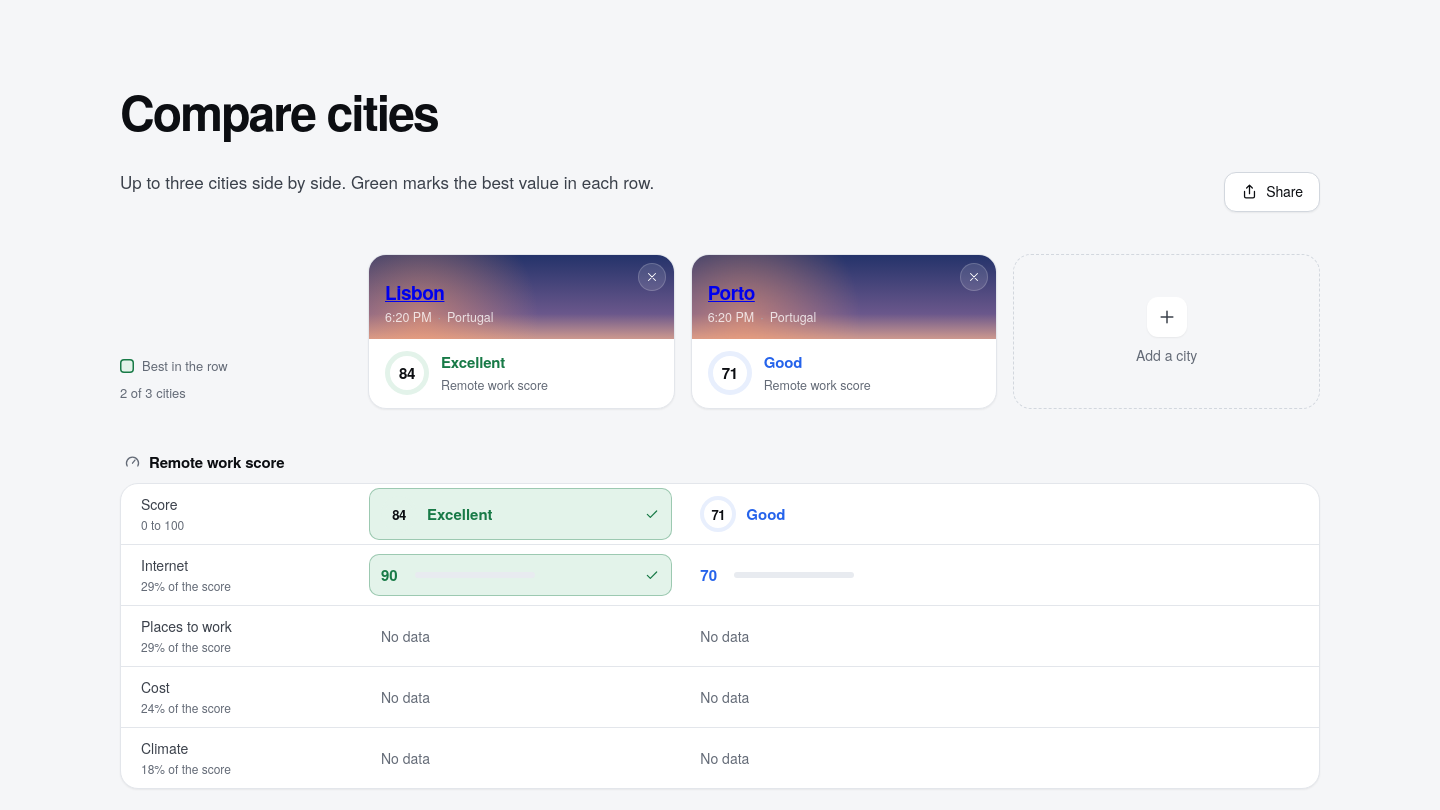
Test: ComparePage › removes a city from the comparison
Click the button named "Remove Porto".
click(974, 277)  # box [960,263,988,291]
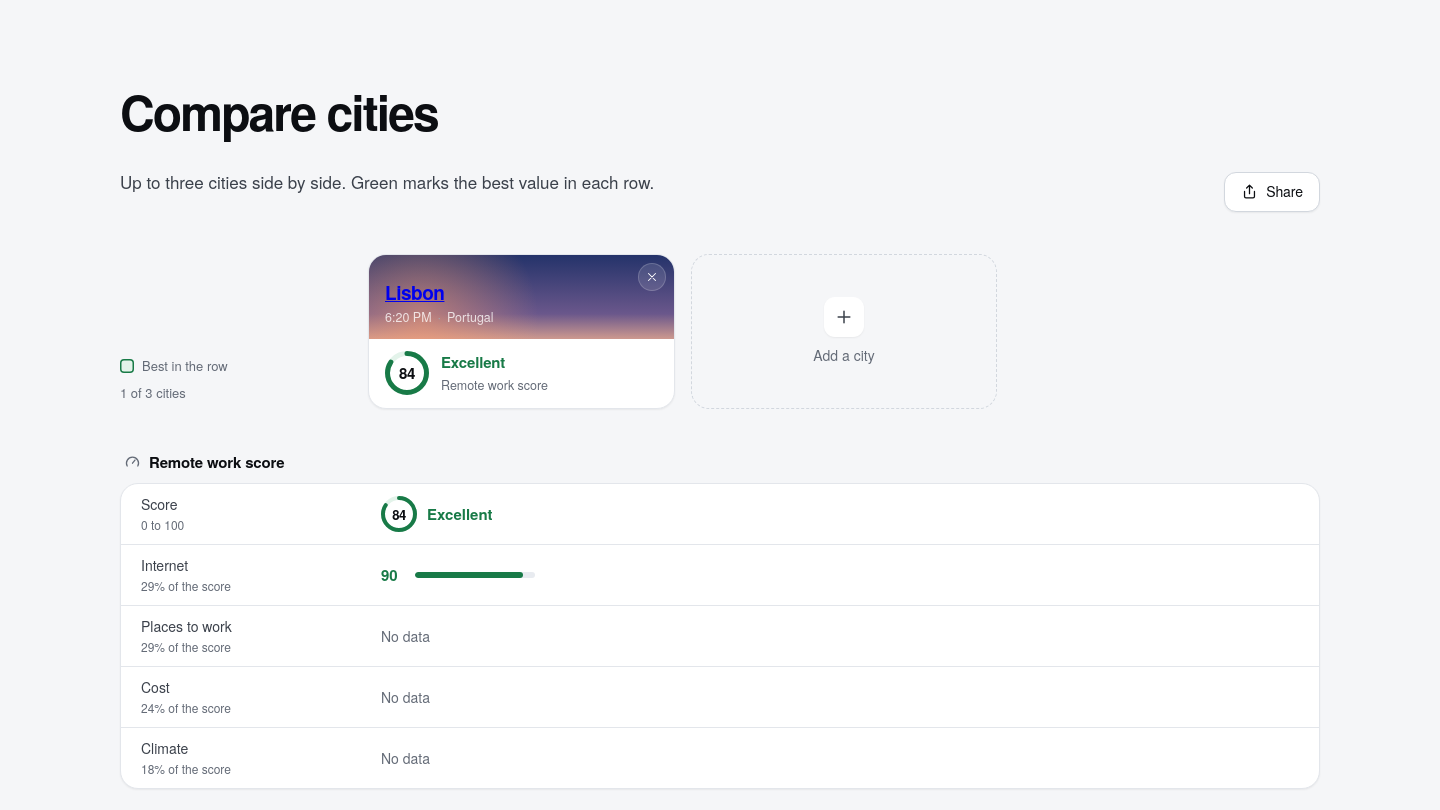
Expected: the link "Lisbon" is shown, [385,278,444,306]
Expected: the link "Porto" is gone
